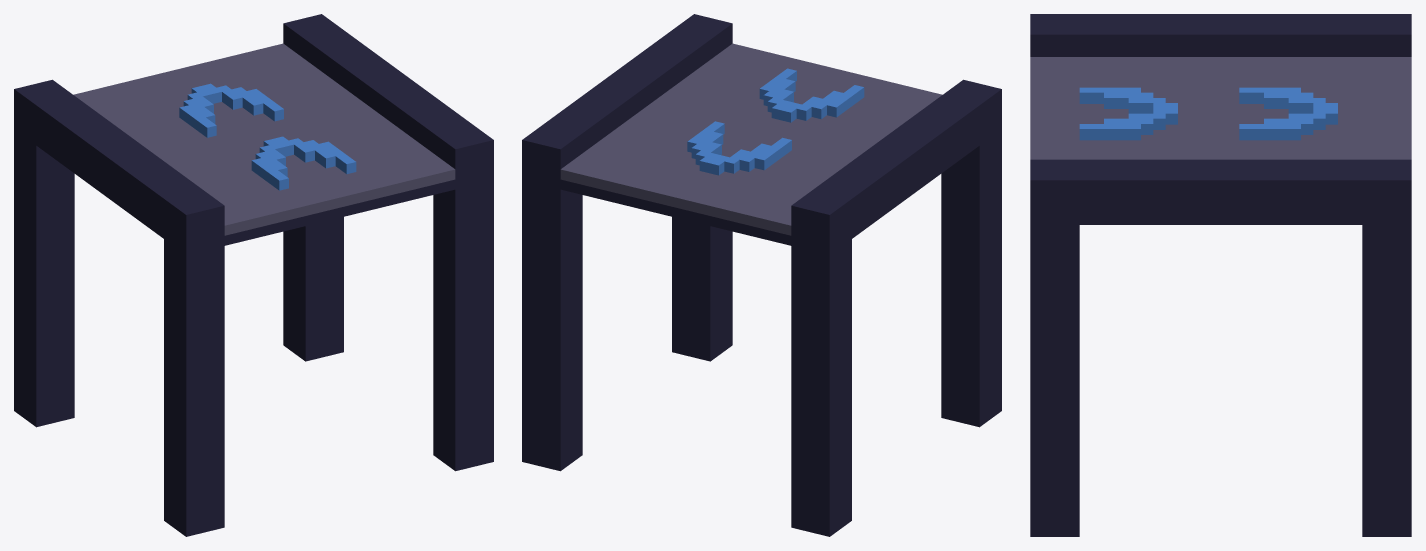
File: TapisPont.obj
3 views of the same model, side by side, from view 1: azimuth 30°, elevation 25°; view 2: azimuth 150°, elevation 25°; view 3: azimuth 270°, elevation 25° (orthographic). The views are drawn at different scales.
Size of the model in its own units: 3.2 by 3.2 by 3.1.
Materials: 1 (1 with a texture image).
